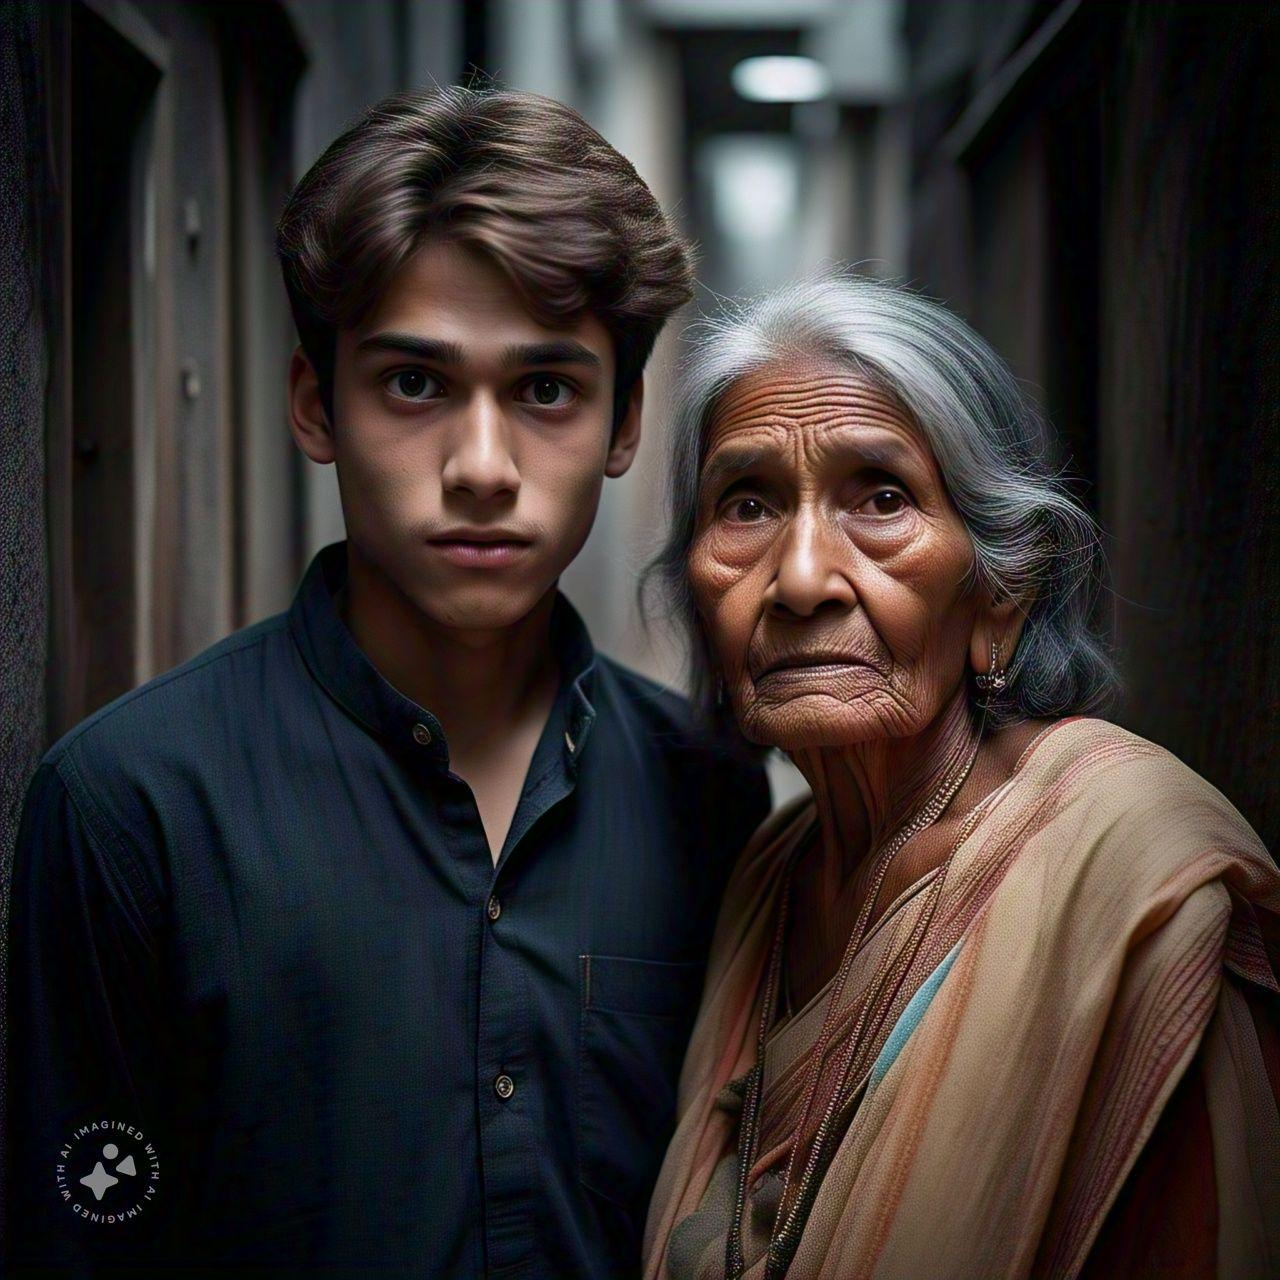normal: (306, 216, 647, 631)
surpreso: (686, 366, 975, 761)
